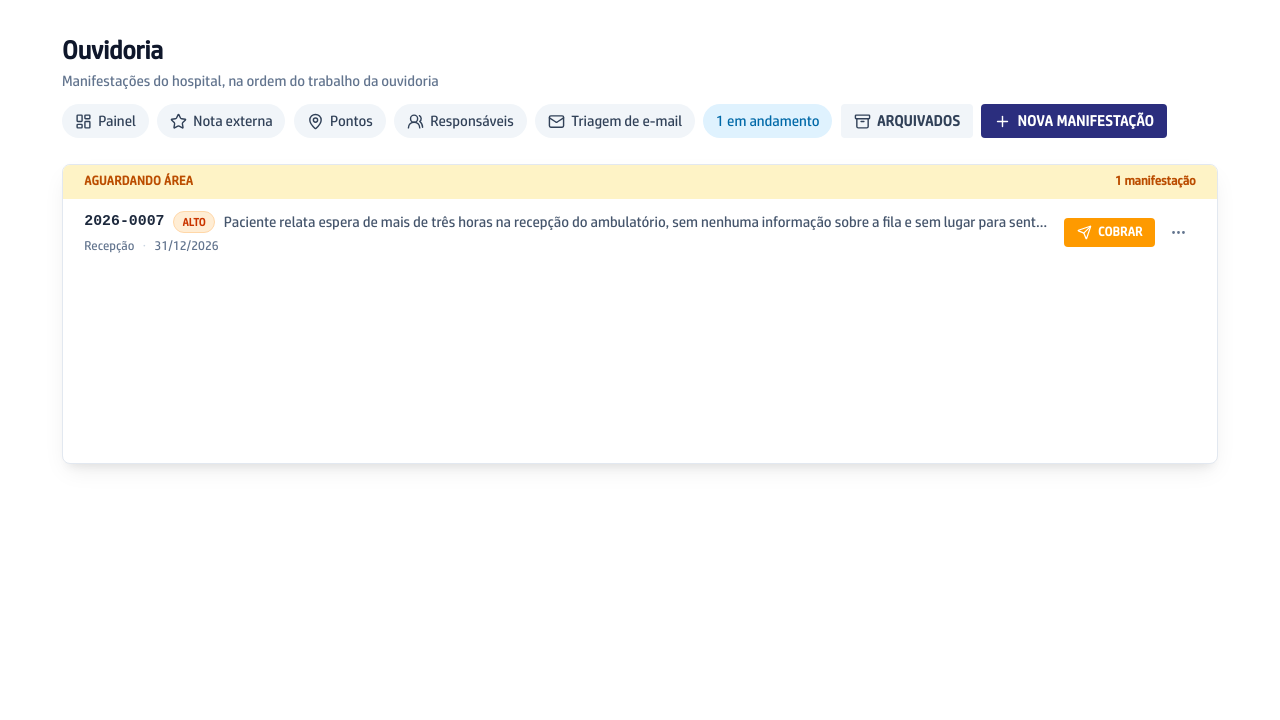
Test case: a ação primária de cada estado, sempre visível (RN-74, D-06) › o menu fecha ao clicar fora dele
Check: the text "2026-0007" is shown, box 84,211 -> 165,233
Step 1. Click the button named "Mais ações" → (1179, 233), box 1162,216 -> 1196,250
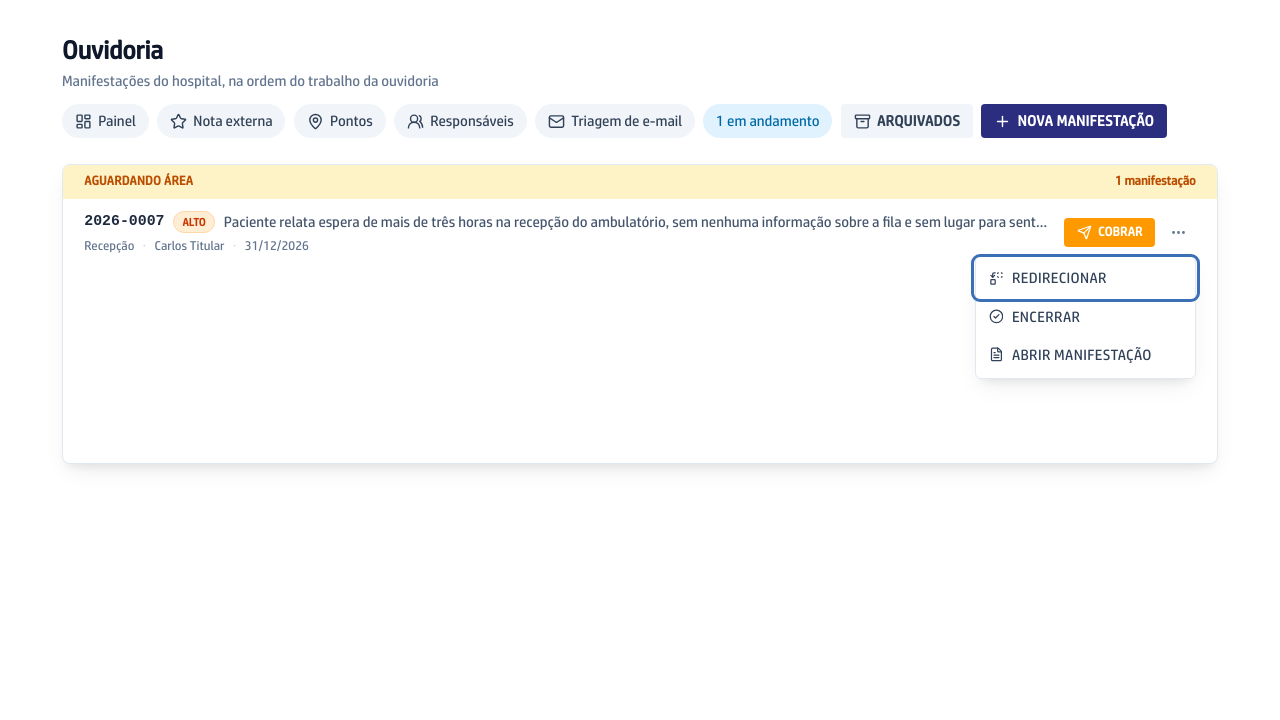
Step 2. Press the mouse on the element that starts with "Ouvidoria" → (640, 249), box 0,0 -> 1279,498
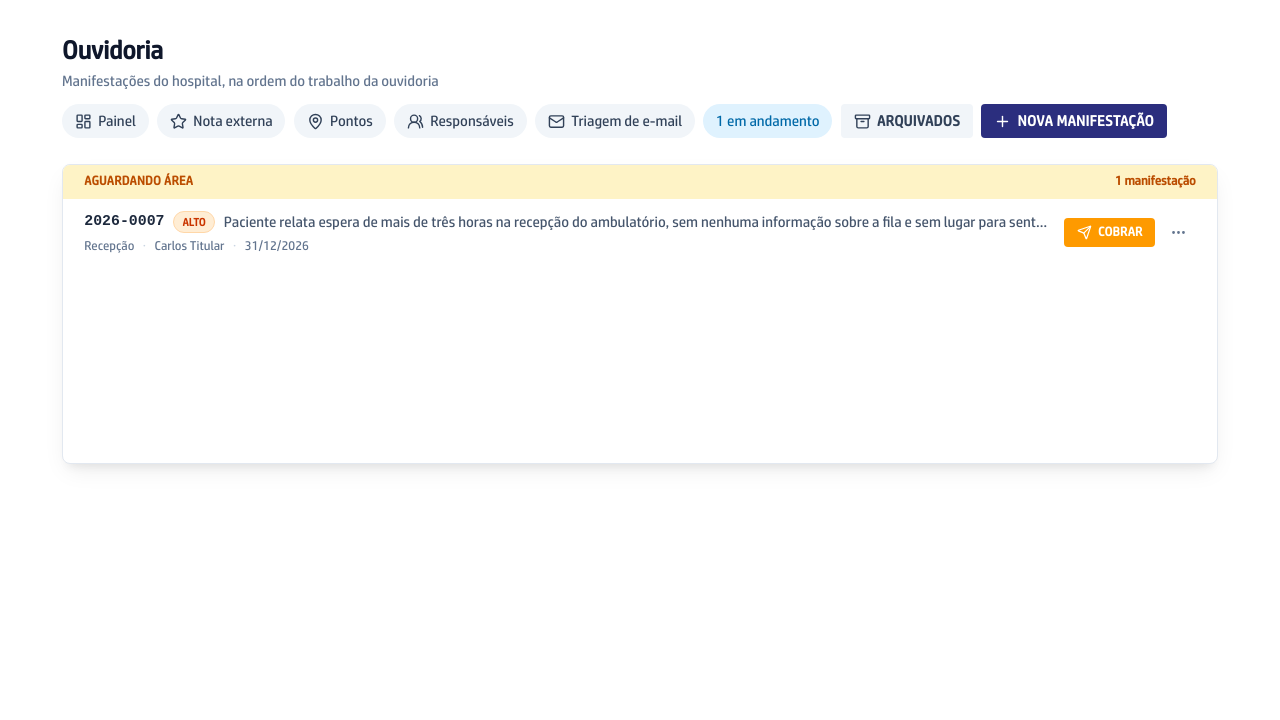
Check: the button "Encerrar" is gone
